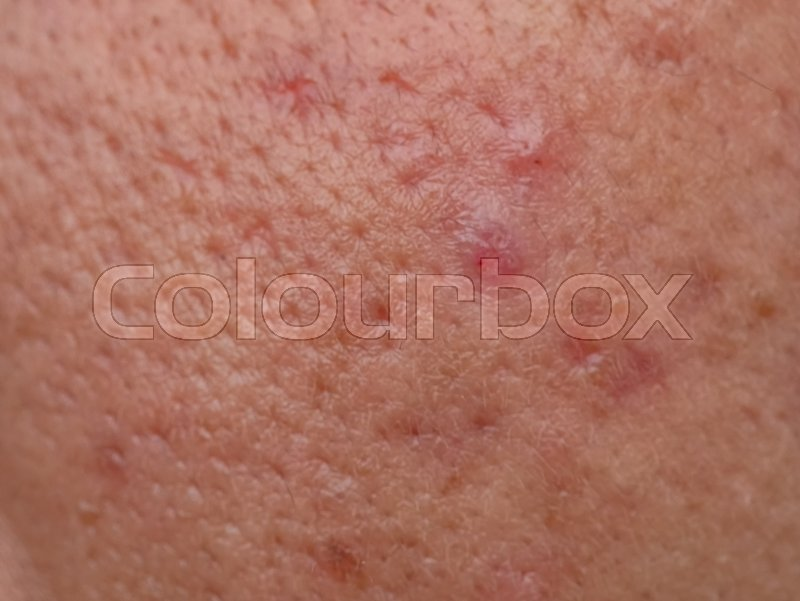acene: (34, 36, 661, 288)
